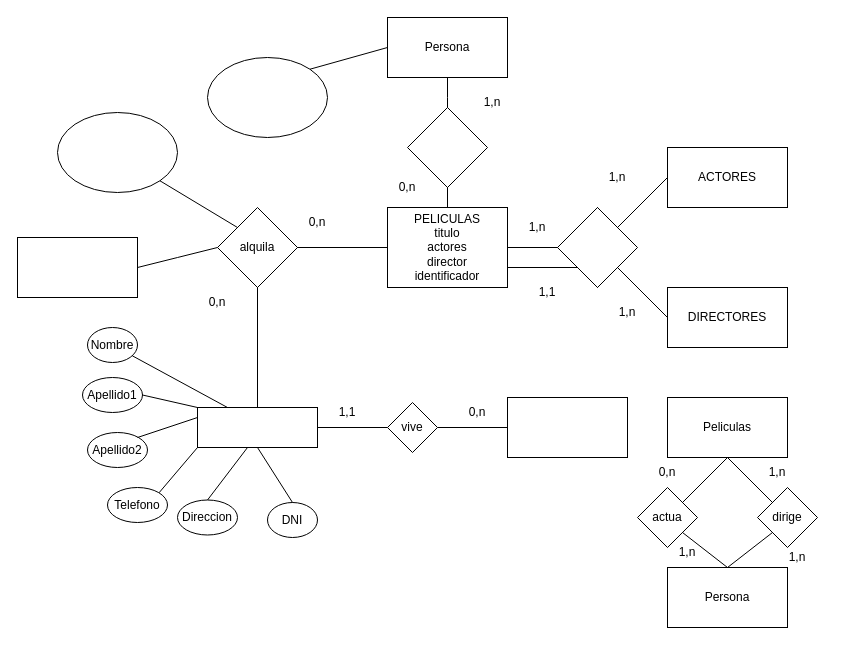
The diagram is 845 pixels wide and 645 high, and some of its shapes have lost their labels. Here are the shapes that lost their labels. From the top down, the centre of each, then its label:
At pixel 267 97: "Tipo".
At pixel 117 152: "fecha devolucion".
At pixel 447 147: "participa".
At pixel 77 267: "Fecha alquiler".
At pixel 597 247: "trabajar".
At pixel 257 427: "SOCIOS".
At pixel 567 427: "CIUTAT".
